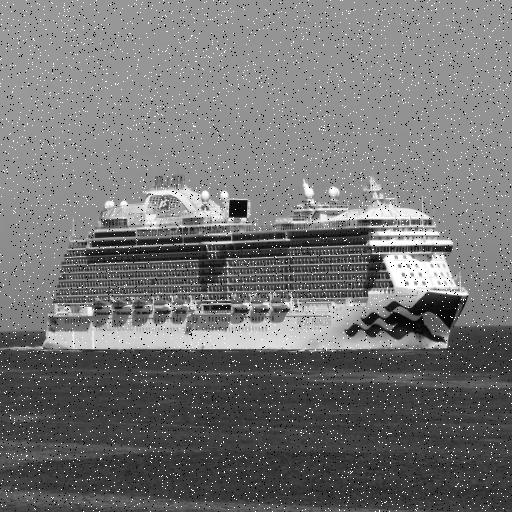cruises: (38, 153, 477, 369)
